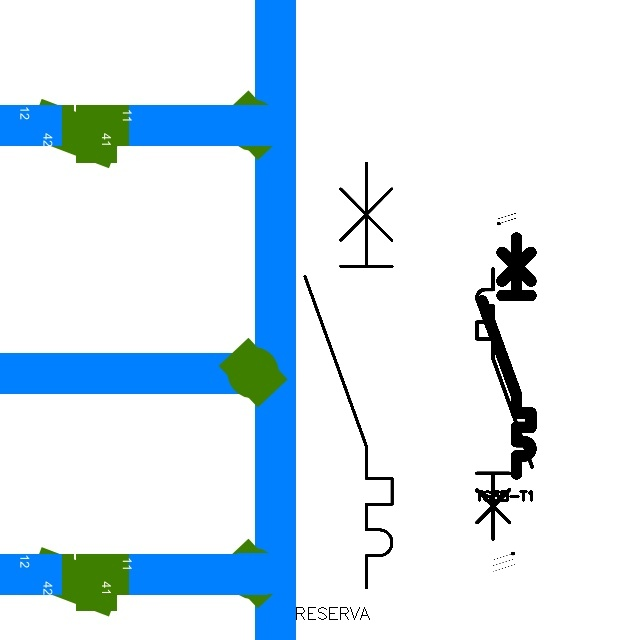interruptor_termomagnetico: (294, 152, 403, 599), (470, 262, 539, 546), (476, 232, 537, 480)
